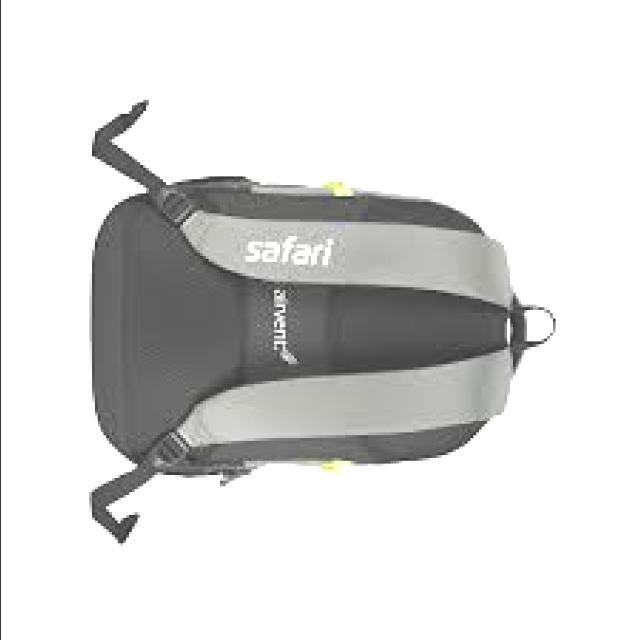backpack: (89, 101, 559, 545)
